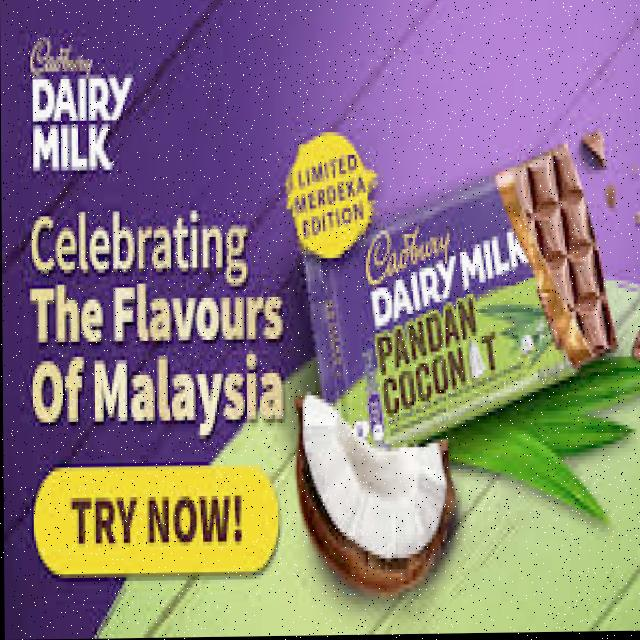cadbury: (302, 134, 608, 464)
